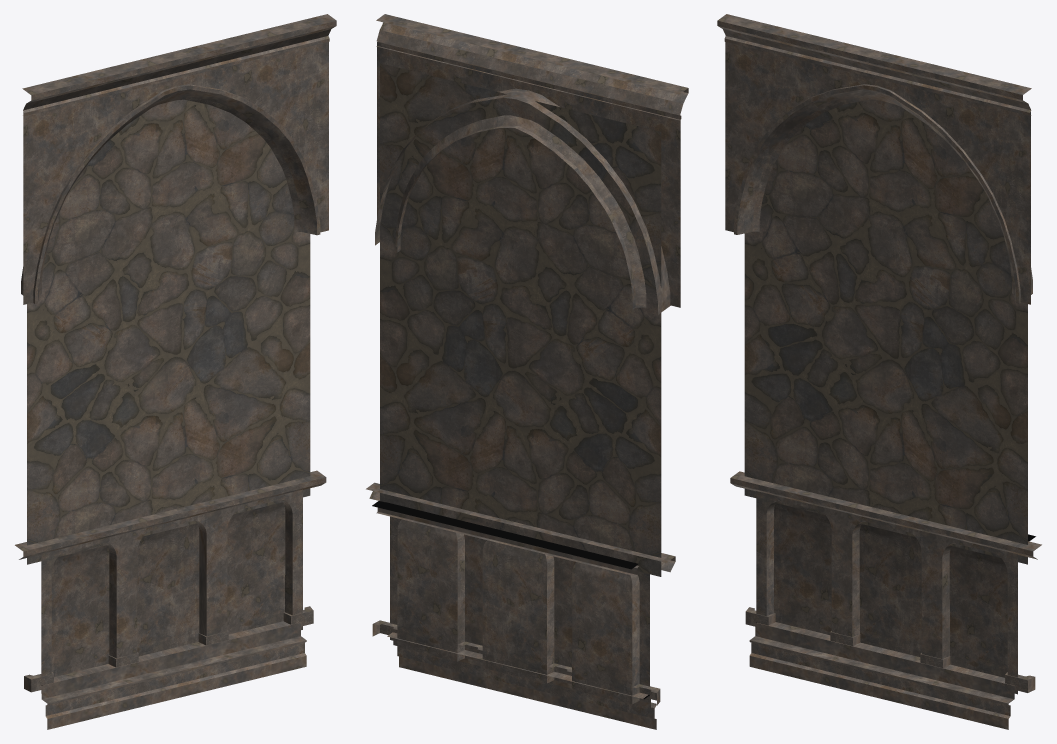
The model's file is SD2_Wall.fbx.
3 views of the same model, side by side, from view 1: azimuth 30°, elevation 25°; view 2: azimuth 150°, elevation 25°; view 3: azimuth 330°, elevation 25° (orthographic).
Visible parts, largest first — view 1: SD2_wall; view 2: SD2_wall; view 3: SD2_wall.
Part boxes in pixels (x1,y1,x2,y2): SD2_wall: (15,14,336,729); SD2_wall: (366,14,688,729); SD2_wall: (717,14,1041,729).
Bounding box in the file's own units: 200 × 35.17 × 404.
1 material, 1 textured.
